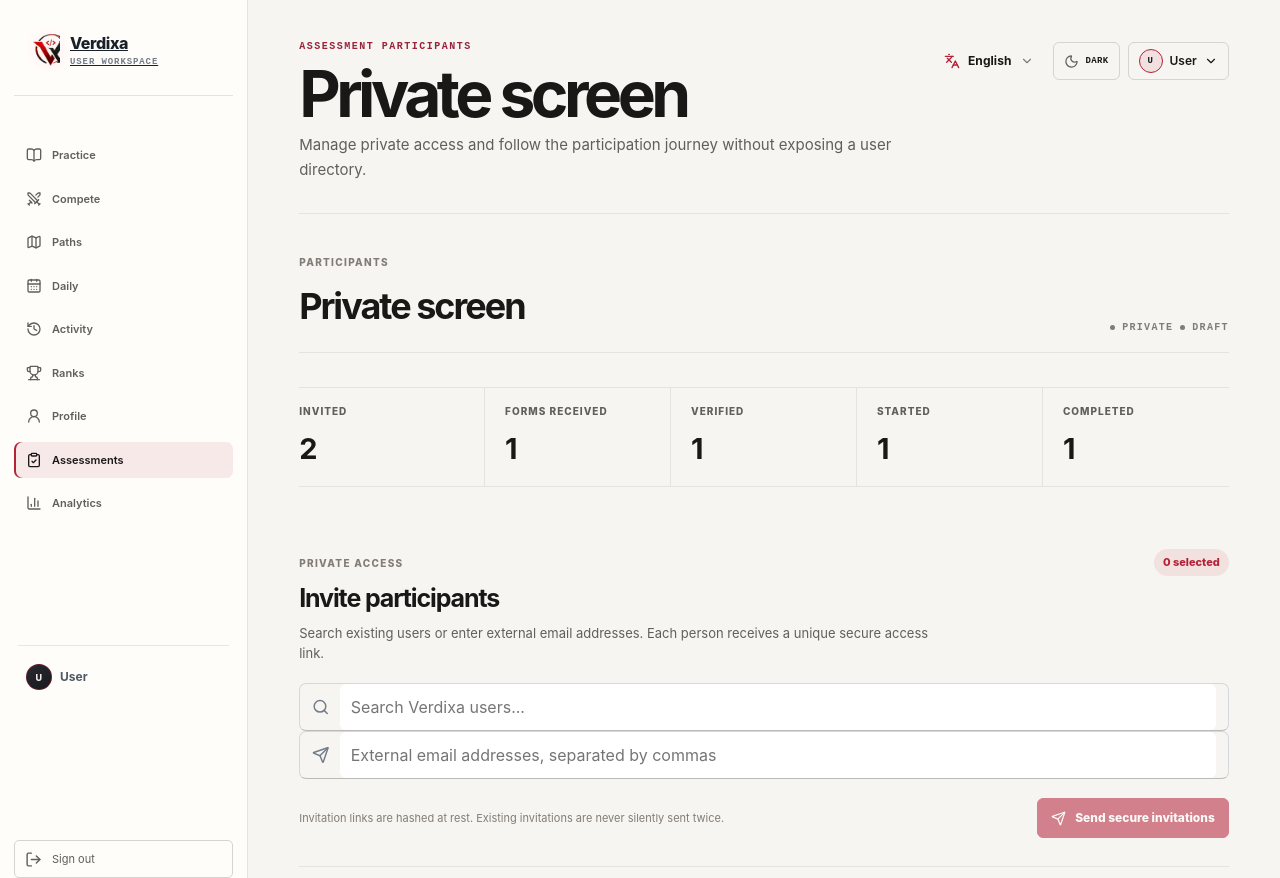
Test: selects a searched user, sends user IDs, and reports duplicate-safe results
The width and height of the screenshot is (1280, 878).
Type "ma" into the field labelled "Search Verdixa users" at coordinates (778, 707), box [340,684,1216,730]
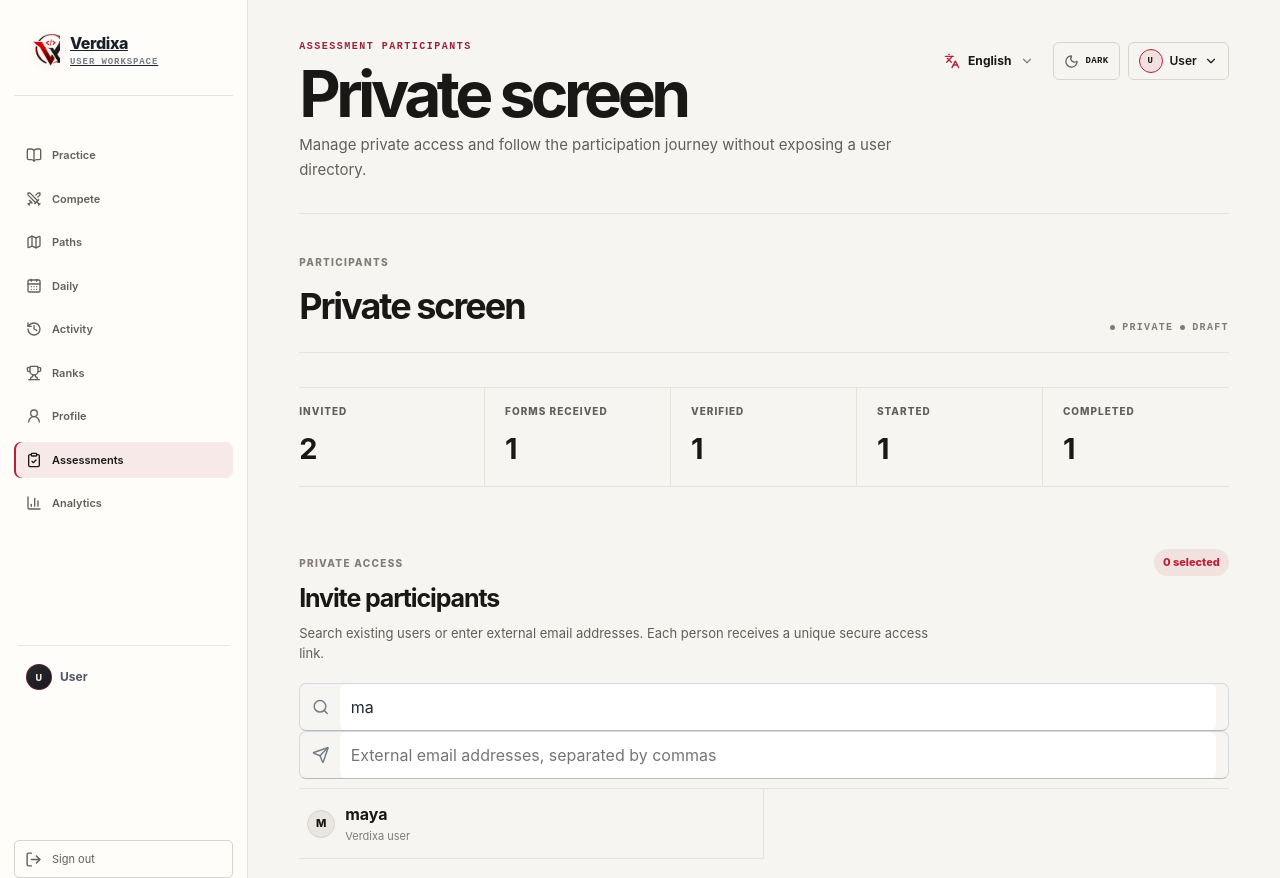
Result: the text "maya" is shown
Click the text "maya" at coordinates (366, 814), box [345,804,388,824]
(page scrolled)
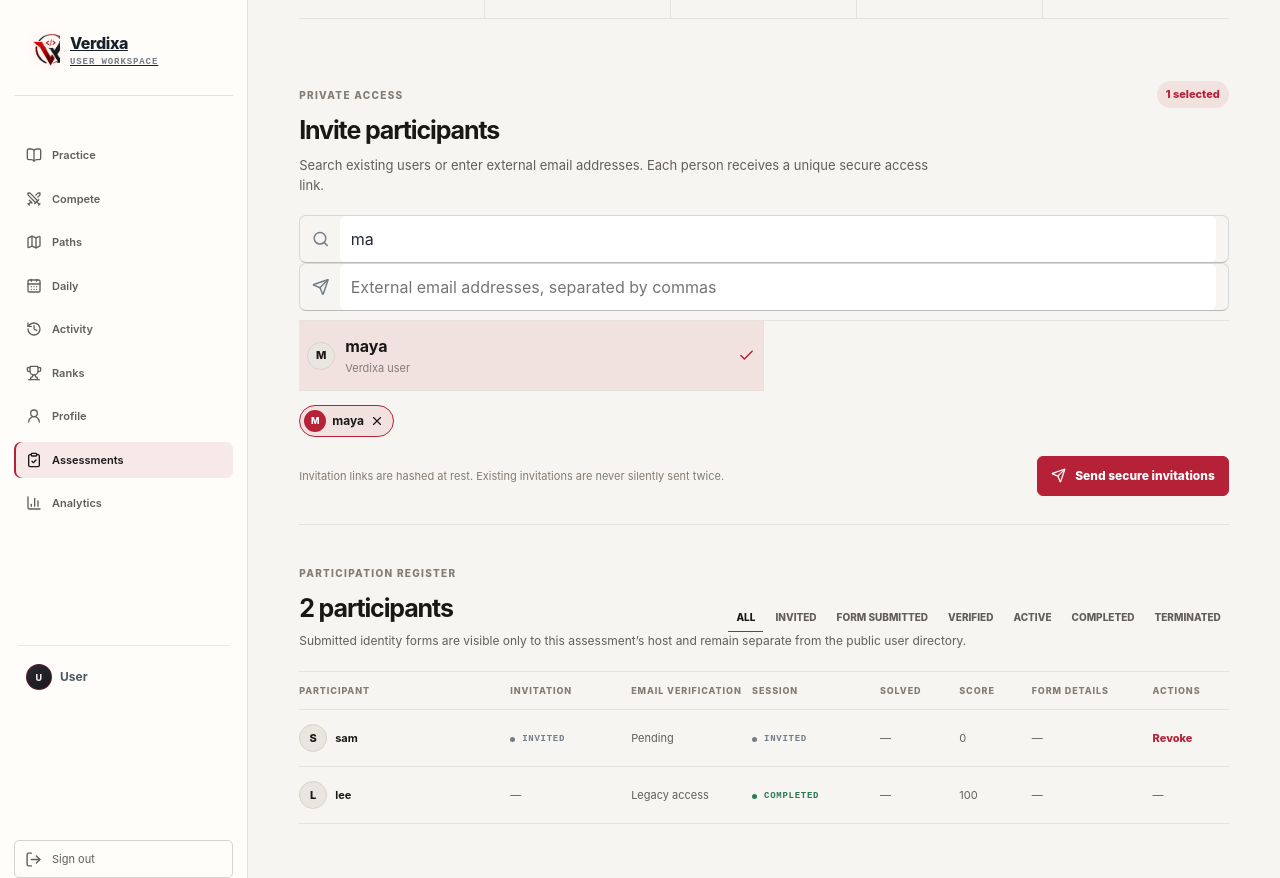
Click the button "Send secure invitations" at coordinates (1133, 476), box [1037,456,1229,496]
(page scrolled)
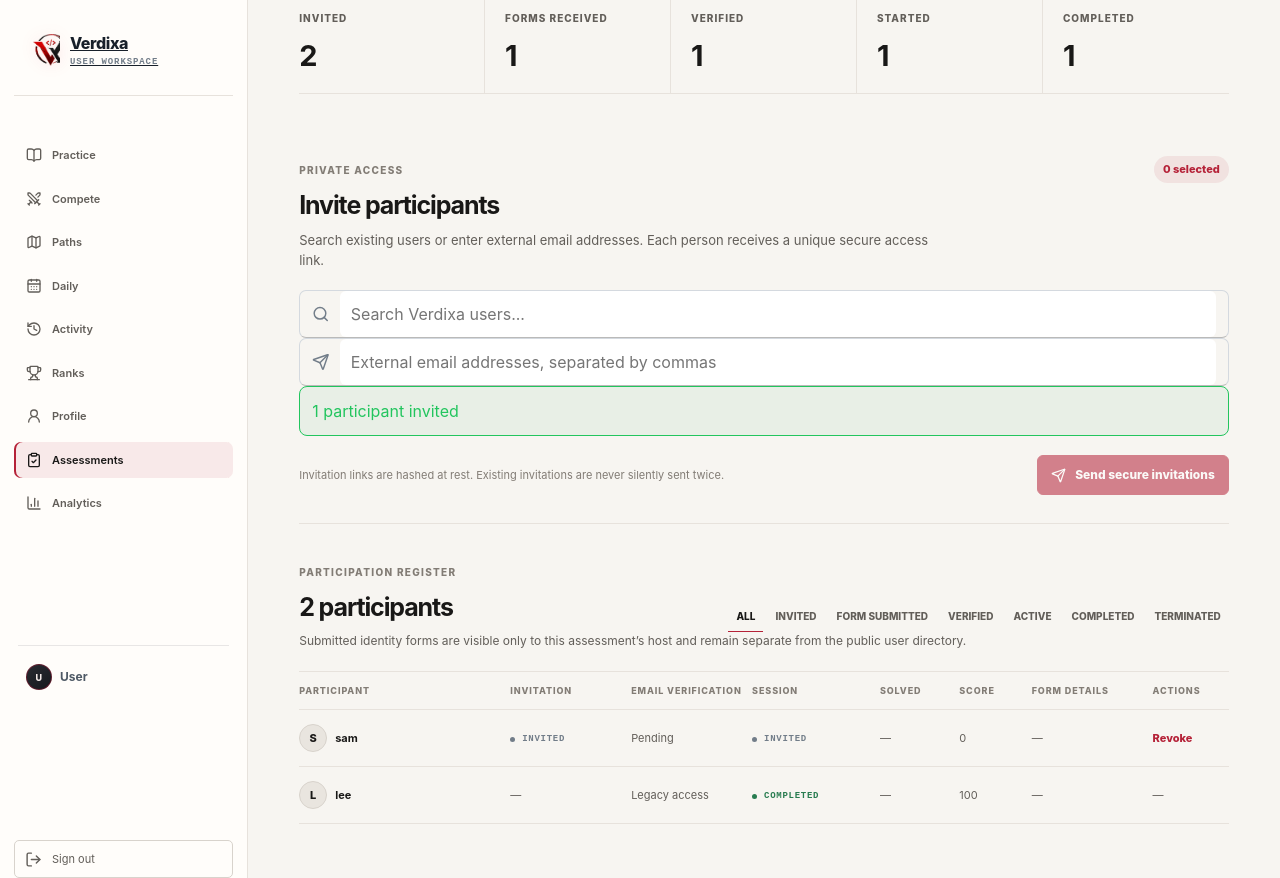
Result: the message reads "1 participant invited" at [312,401,459,421]
